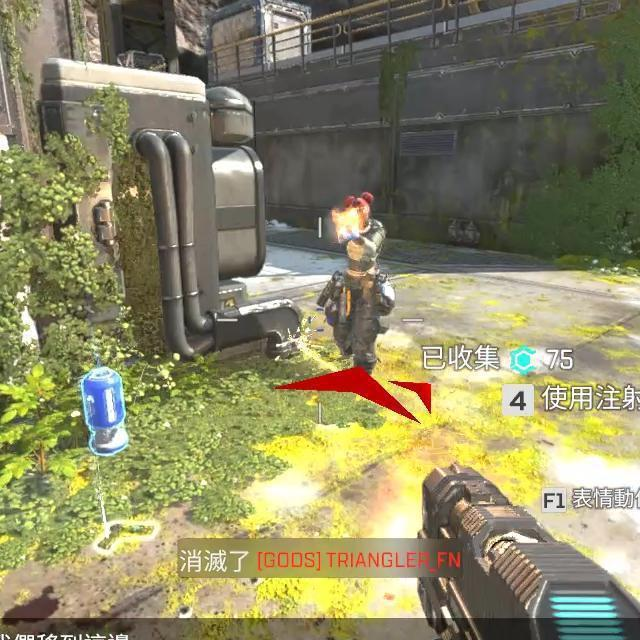avatar: (314, 189, 395, 376)
object: (329, 201, 363, 246)
